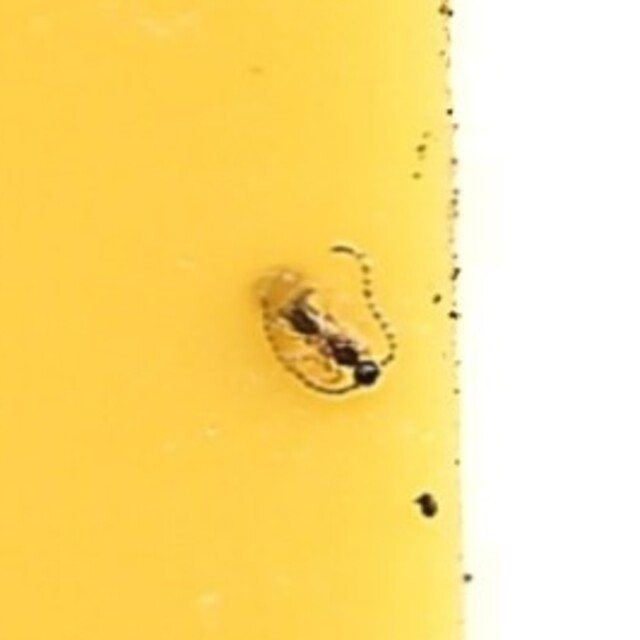Hymenoptera: (241, 237, 399, 403)
